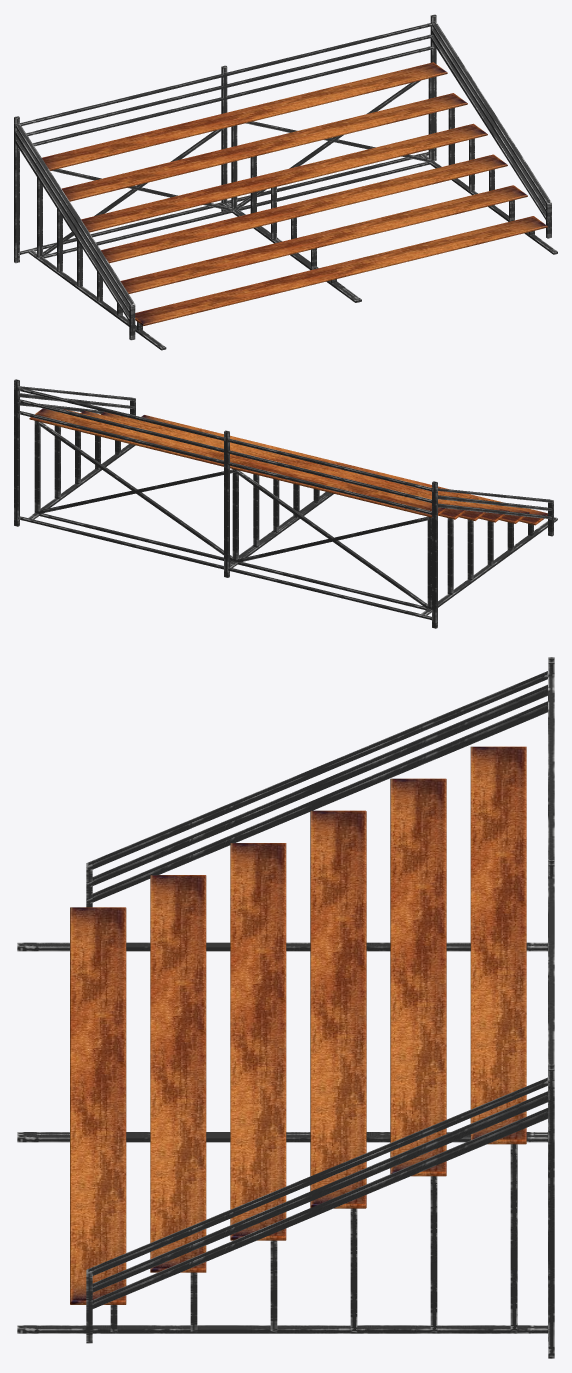
Rendered from sf_bleacher.glb.
The picture shows the model from 3 angles, top to bottom: view 1: azimuth 30°, elevation 25°; view 2: azimuth 150°, elevation 25°; view 3: azimuth 270°, elevation 25°; orthographic projection. The views are drawn at different scales.
Visible parts, largest first — view 1: bleacher; view 2: bleacher; view 3: bleacher.
Part boxes in pixels (x1=…): bleacher: x1=14, y1=14, x2=557, y2=350; bleacher: x1=14, y1=379, x2=557, y2=628; bleacher: x1=17, y1=657, x2=554, y2=1358.
Bounding box in the file's own units: 3.8 × 1.25 × 2.1.
Materials: 1 (1 with a texture image).
